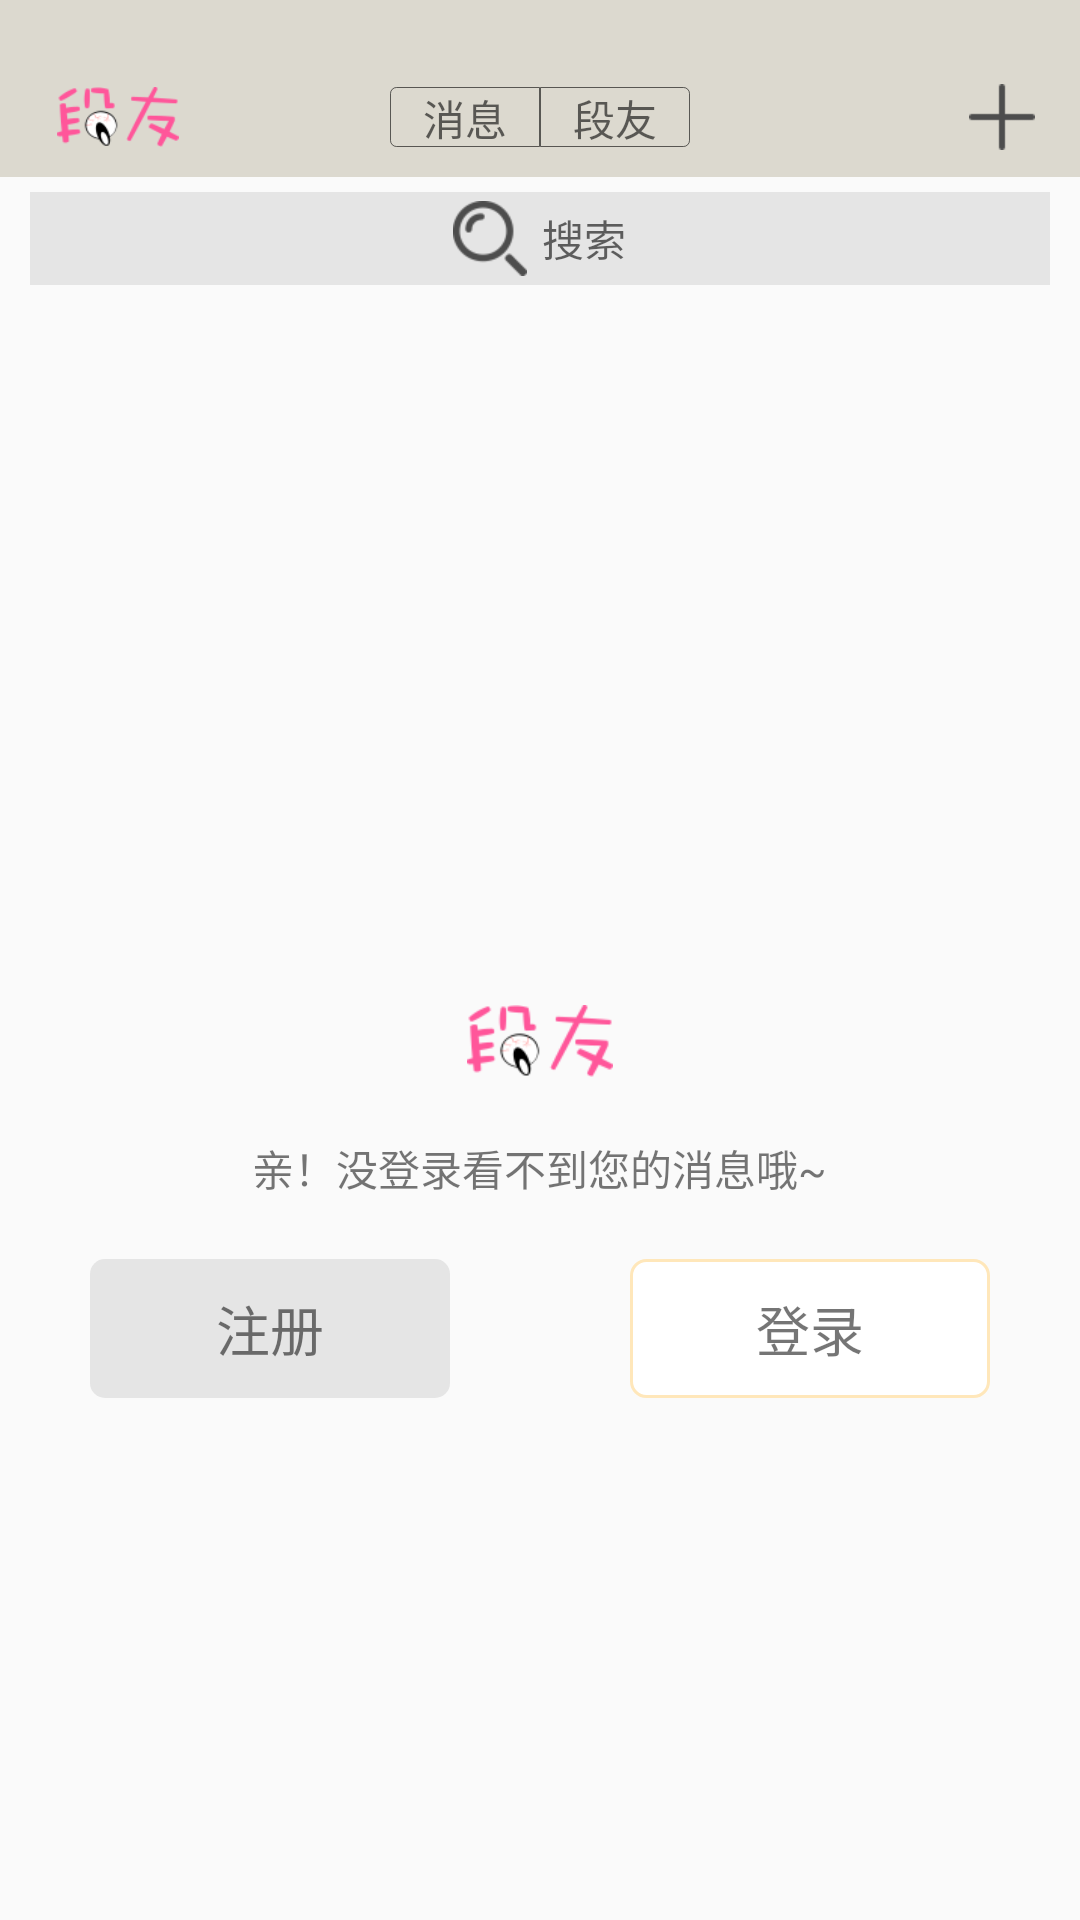

Icon bounding boxes for this 1080×1920 phone screenshot, format bbox=(x1, y1, x2, y2):
plus: bbox=(969, 84, 1035, 150)
